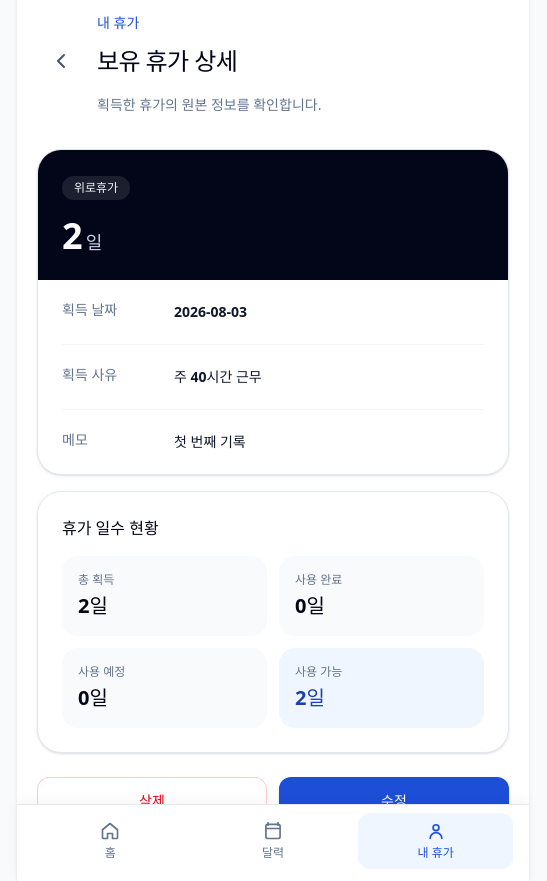
Test: 보유 휴가 상세·수정·삭제 흐름 › 확인 후 보유 휴가를 삭제한다
Click the button "삭제" at (152, 801), box [37,777,267,825]
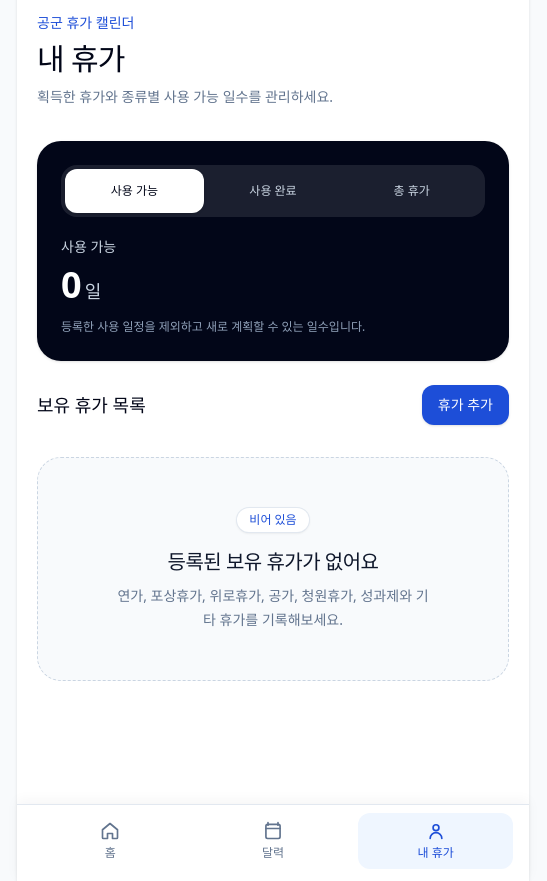
Expected: the heading "내 휴가" is shown, [37,38,125,79]
Now the heading "등록된 보유 휴가가 없어요" is shown, box [168,548,378,575]
